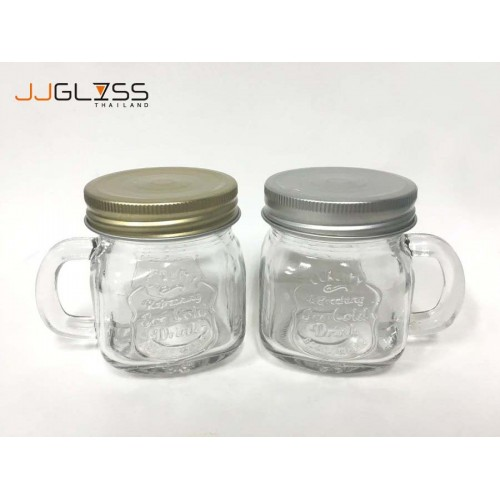glass_bottle: (31, 160, 249, 382), (253, 161, 473, 379)
